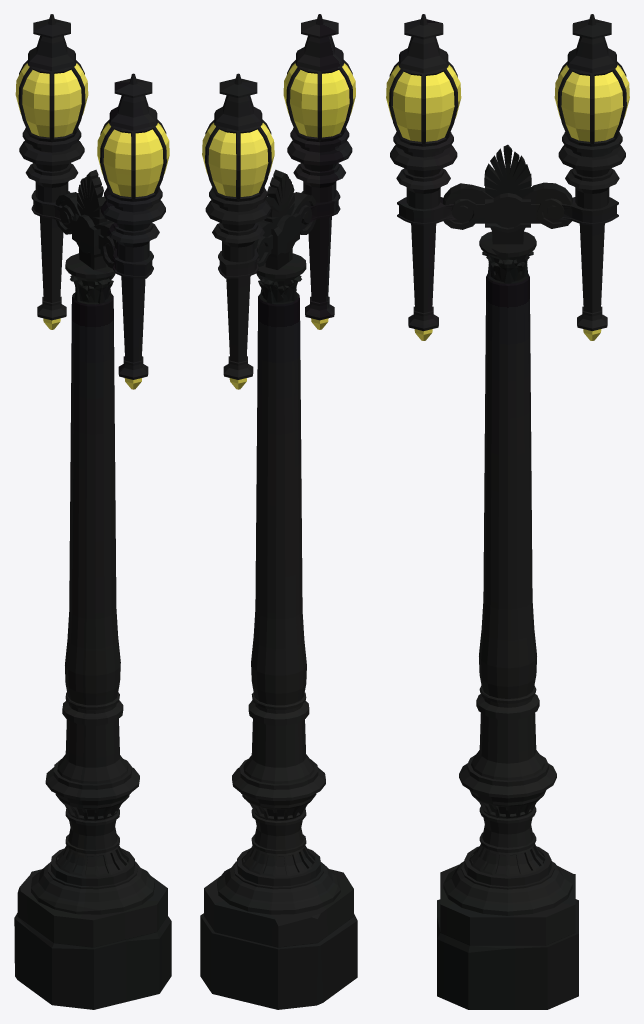
File: LightPole06.fbx
The picture shows the model from 3 angles, left to right: view 1: azimuth 30°, elevation 25°; view 2: azimuth 150°, elevation 25°; view 3: azimuth 270°, elevation 25°; orthographic projection. The views are drawn at different scales.
Parts seen in each view (by area): view 1: SM_City_LightPole_02a.mo; view 2: SM_City_LightPole_02a.mo; view 3: SM_City_LightPole_02a.mo.
Part boxes in pixels (x1=…): SM_City_LightPole_02a.mo: x1=14, y1=14, x2=171, y2=1009; SM_City_LightPole_02a.mo: x1=200, y1=14, x2=357, y2=1009; SM_City_LightPole_02a.mo: x1=386, y1=14, x2=629, y2=1009.
Bounding box in the file's own units: 87.85 × 655 × 150.
